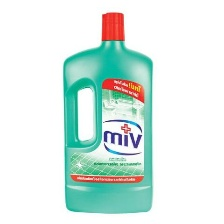cleaning_solution: (59, 9, 156, 217)
